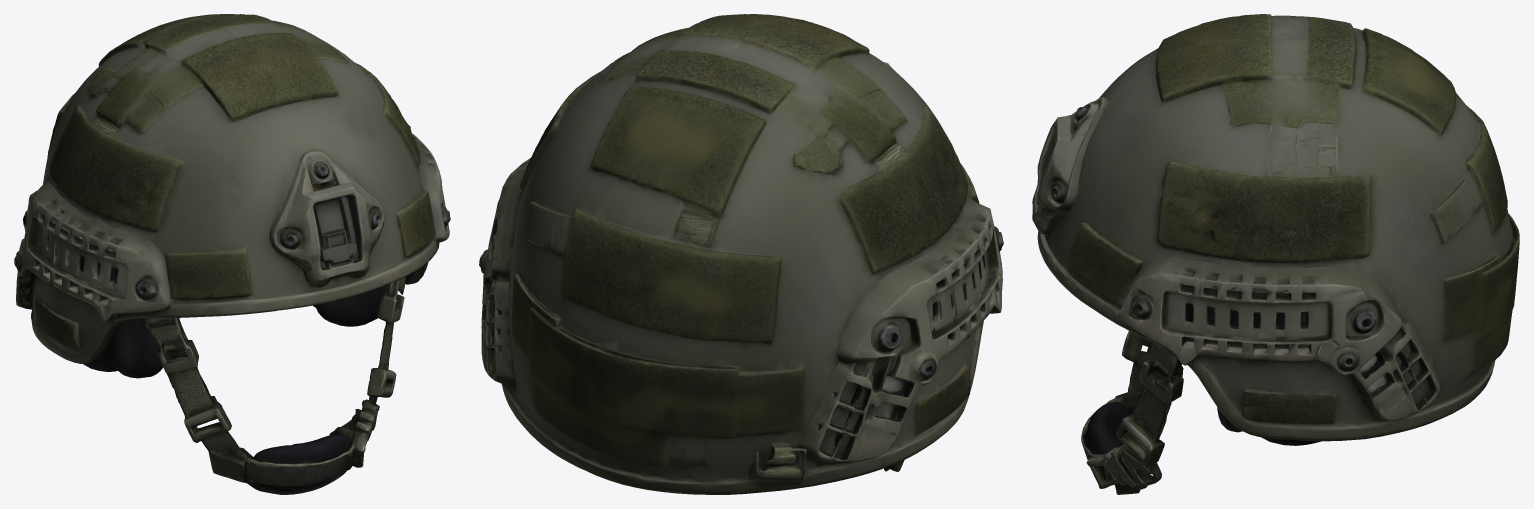
Rendered from helmet.glb.
3 views of the same model, side by side, from view 1: azimuth 30°, elevation 25°; view 2: azimuth 150°, elevation 25°; view 3: azimuth 270°, elevation 25° (orthographic). The views are drawn at different scales.
Visible parts, largest first — view 1: tripo_node_84989004-97c4-4627-a2cc-1fcf0cbca9f6; view 2: tripo_node_84989004-97c4-4627-a2cc-1fcf0cbca9f6; view 3: tripo_node_84989004-97c4-4627-a2cc-1fcf0cbca9f6.
Part boxes in pixels (x1,y1,x2,y2): tripo_node_84989004-97c4-4627-a2cc-1fcf0cbca9f6: [14, 14, 450, 494]; tripo_node_84989004-97c4-4627-a2cc-1fcf0cbca9f6: [479, 14, 1003, 494]; tripo_node_84989004-97c4-4627-a2cc-1fcf0cbca9f6: [1032, 14, 1519, 494].
Bounding box in the file's own units: 0.968 × 0.9993 × 0.9807.
Materials: 1 (1 with a texture image).
